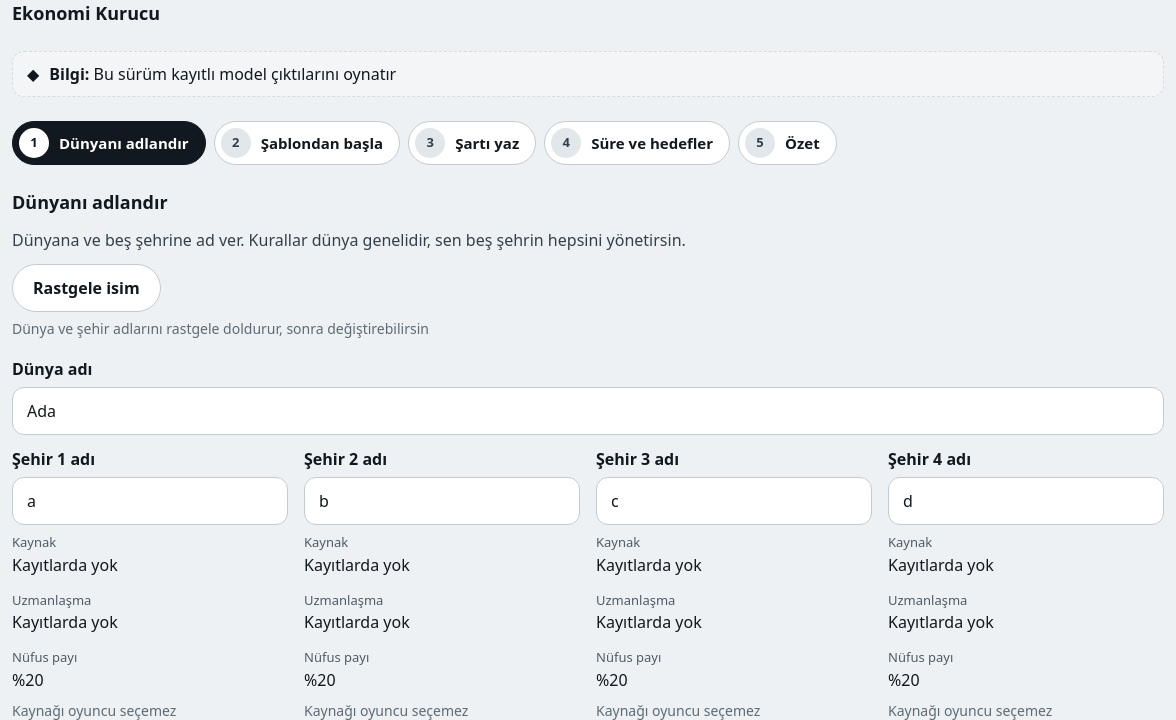
Test: Kurucu adım 4: özet ve Başlat › registry_yokken_sabit_kurallar_ozette
The image size is (1176, 720).
Expected: the heading "Ekonomi Kurucu" is shown, [12,0,160,27]
Click the button "5 Özet" at (787,143), box [738,121,837,165]
(page scrolled)
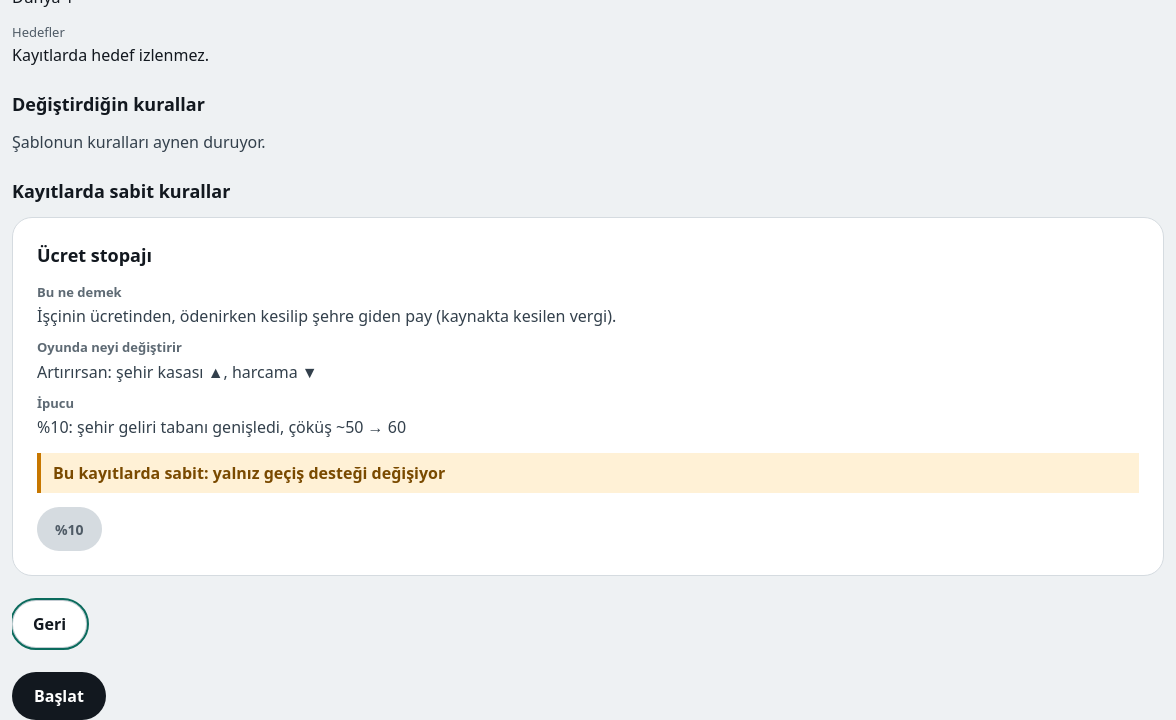
Result: the button "%10" is disabled at [37,507,102,551]
